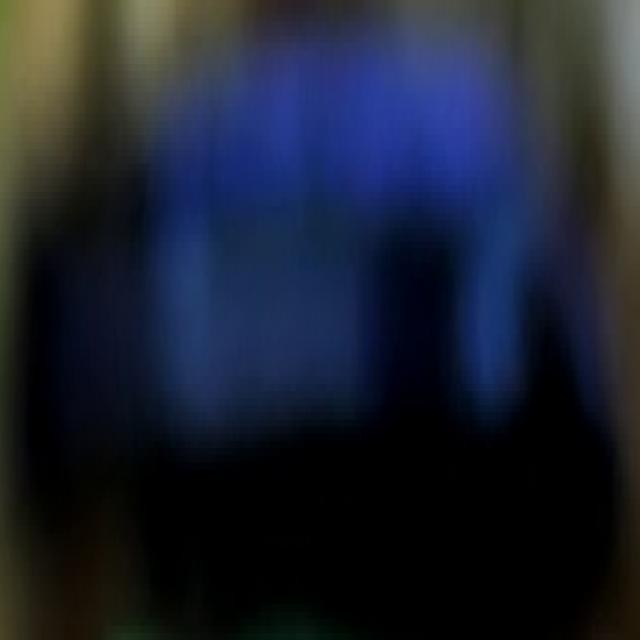fish: (0, 7, 638, 640)
